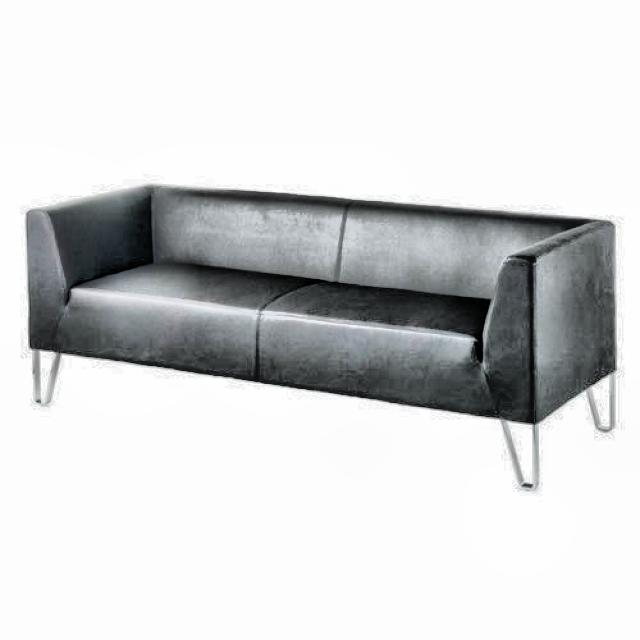sofa: (24, 180, 618, 490)
